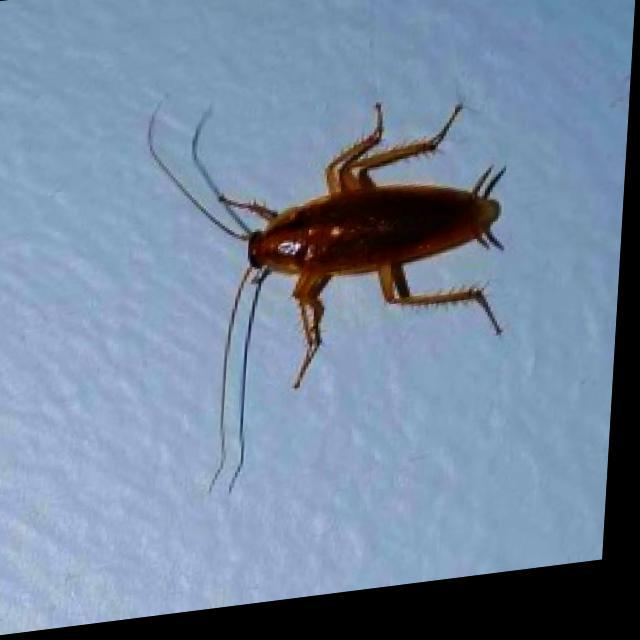cockroach: (142, 91, 514, 498)
